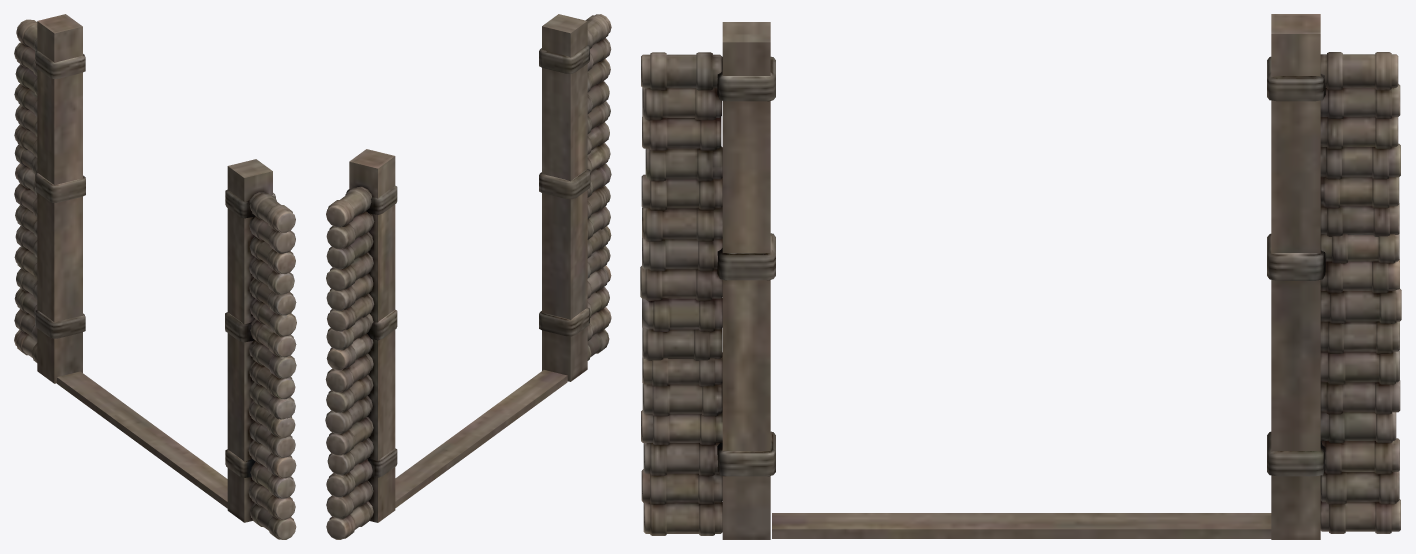
File: SM_Gate_Base_Wood_aa82bc.glb
3 renders of one model, left to right at view 1: azimuth 30°, elevation 25°; view 2: azimuth 150°, elevation 25°; view 3: azimuth 270°, elevation 25°, orthographic. The views are drawn at different scales.
Size of the model in its own units: 0.741 by 6.76 by 9.15.
1 material, 1 textured.
